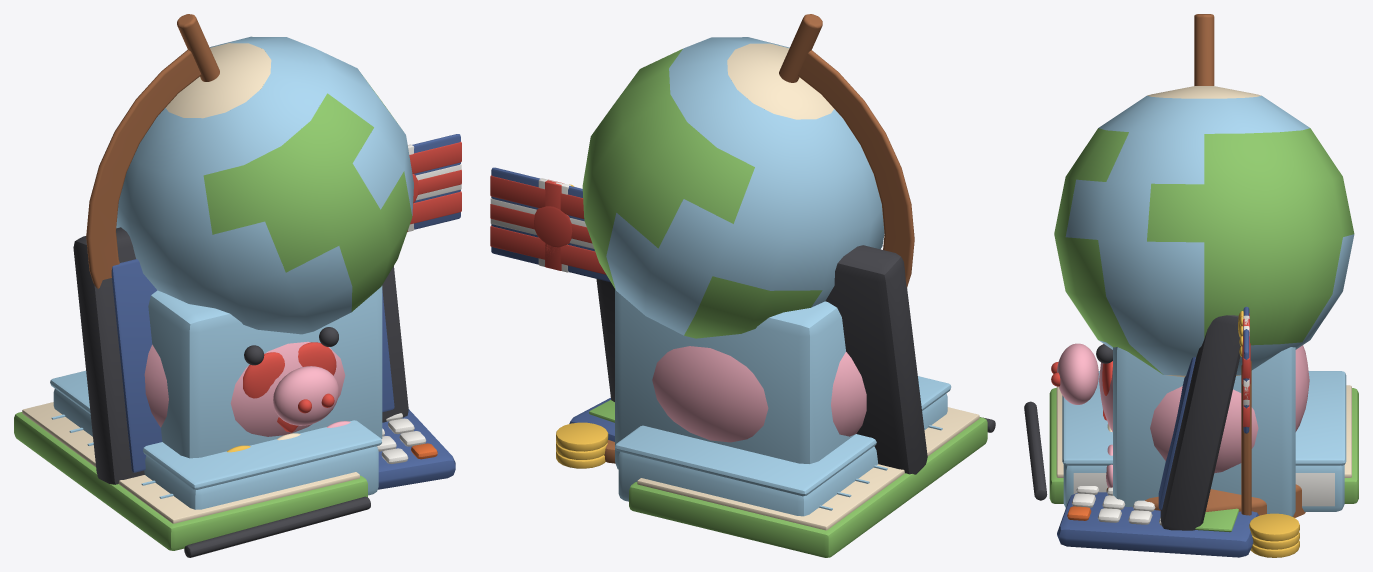
File: interest_self_dev_v3_8_draco_webp.glb
3 renders of one model, left to right at view 1: azimuth 30°, elevation 25°; view 2: azimuth 150°, elevation 25°; view 3: azimuth 270°, elevation 25°, orthographic. The views are drawn at different scales.
Parts seen in each view (by area): view 1: globe_globe, volunteer_box_box, stock_chart_frame, calculator_ledger_book, flag_book_en_cover, stock_chart_screen, flag_book_en_book, calculator_ledger_page, piggy_bank_body, piggy_bank_snout, calculator_ledger_calc, calculator_ledger_pen (+7 smaller); view 2: globe_globe, volunteer_box_box, stock_chart_frame, piggy_bank_body, calculator_ledger_book, flag_book_en_cover, flag_book_en_book, calculator_ledger_page, piggy_bank, flag_book_es_flag_band_0.141, flag_book_es_flag_band_0.179, flag_book_en_flag (+4 smaller); view 3: globe_globe, volunteer_box_box, stock_chart_frame, flag_book_en_cover, calculator_ledger_calc, piggy_bank_body, piggy_bank, calculator_ledger_book, piggy_bank_snout, calculator_ledger, flag_book_en_pages, flag_book_en_book (+5 smaller).
Boxes of the visible parts, box(x1,y1,x2,y2) form: globe_globe: box(86, 14, 413, 334); volunteer_box_box: box(148, 286, 382, 458); stock_chart_frame: box(73, 227, 408, 484); calculator_ledger_book: box(14, 412, 367, 550); flag_book_en_cover: box(50, 370, 381, 489); stock_chart_screen: box(111, 259, 394, 472); flag_book_en_book: box(53, 389, 378, 509); calculator_ledger_page: box(22, 402, 359, 523); piggy_bank_body: box(144, 341, 345, 436); piggy_bank_snout: box(273, 366, 338, 425); calculator_ledger_calc: box(378, 409, 455, 489); calculator_ledger_pen: box(184, 496, 370, 557); globe_globe: box(582, 14, 914, 338); volunteer_box_box: box(615, 289, 855, 469); stock_chart_frame: box(596, 245, 927, 474); piggy_bank_body: box(652, 346, 866, 442); calculator_ledger_book: box(629, 417, 987, 557); flag_book_en_cover: box(615, 376, 951, 496); flag_book_en_book: box(618, 393, 947, 516); calculator_ledger_page: box(637, 407, 979, 530); piggy_bank: box(556, 422, 608, 468); flag_book_es_flag_band_0.141: box(490, 225, 606, 274); flag_book_es_flag_band_0.179: box(490, 175, 584, 218); flag_book_en_flag: box(491, 167, 610, 282); globe_globe: box(1054, 14, 1354, 517); volunteer_box_box: box(1113, 347, 1295, 516); stock_chart_frame: box(1160, 315, 1240, 530); flag_book_en_cover: box(1062, 371, 1346, 465); calculator_ledger_calc: box(1057, 492, 1258, 557); piggy_bank_body: box(1099, 345, 1309, 473); piggy_bank: box(1051, 344, 1299, 557); calculator_ledger_book: box(1049, 388, 1358, 503); piggy_bank_snout: box(1057, 343, 1098, 404); calculator_ledger: box(1067, 486, 1161, 525); flag_book_en_pages: box(1073, 473, 1334, 506); flag_book_en_book: box(1063, 465, 1344, 511).
Size of the model in its own units: 0.3166 by 0.3491 by 0.2382.
